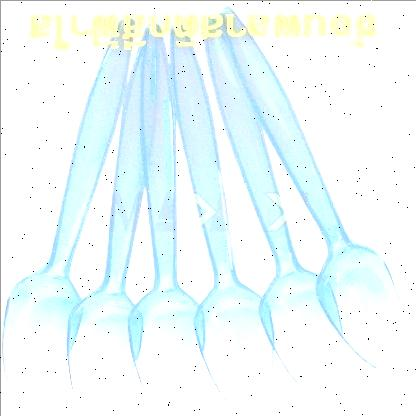Others: (1, 8, 403, 416)
